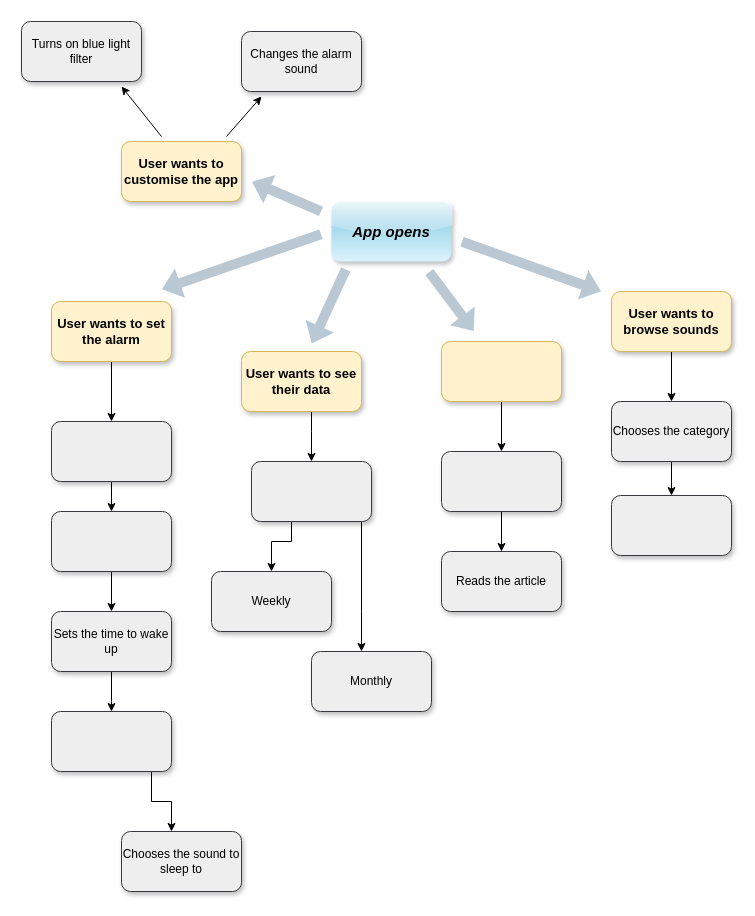
Image size: 755x916. Some labels were removed from this diagram. Here are the shapes that lost their labels. From the top down, the centre of each, then its label:
the point at 502,372: User wants to browse articles, tips
the point at 112,452: Goes to alarm page
the point at 312,492: Sees their progress in a bar chart
the point at 502,482: Scrolls through top/newest articles, blogs
the point at 112,542: Sets the time of the alarm
the point at 672,526: Clicks on the sound, listens to it
the point at 112,742: Receives the "bed time"
